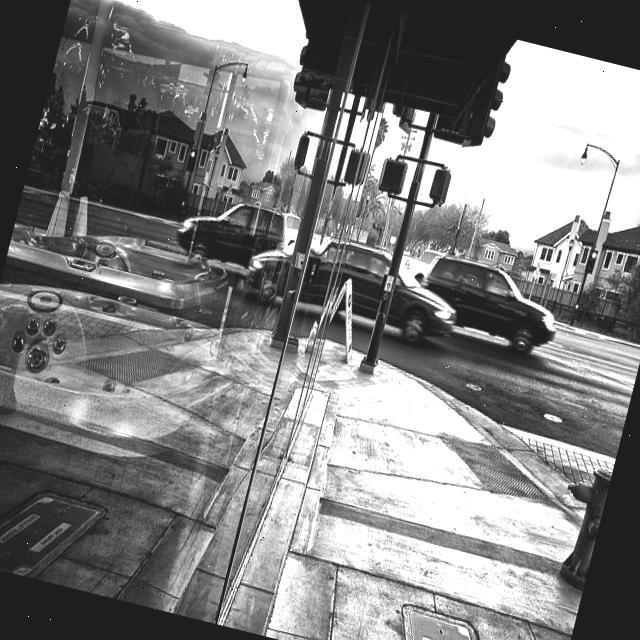fire_hydrant: (542, 455, 614, 594)
